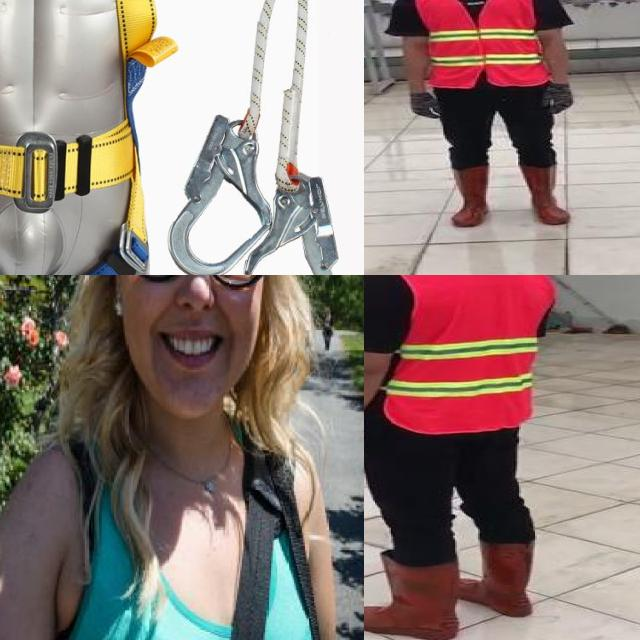Harness: (0, 0, 169, 275)
boots: (364, 555, 462, 640), (450, 538, 540, 618), (515, 164, 573, 223), (449, 166, 493, 225)
face_nomask: (127, 275, 259, 380)
hand_glove: (541, 86, 575, 116), (406, 94, 440, 118)
person: (0, 275, 362, 640), (364, 275, 561, 640), (385, 0, 598, 228)
vest: (366, 275, 554, 436), (414, 0, 548, 87)
